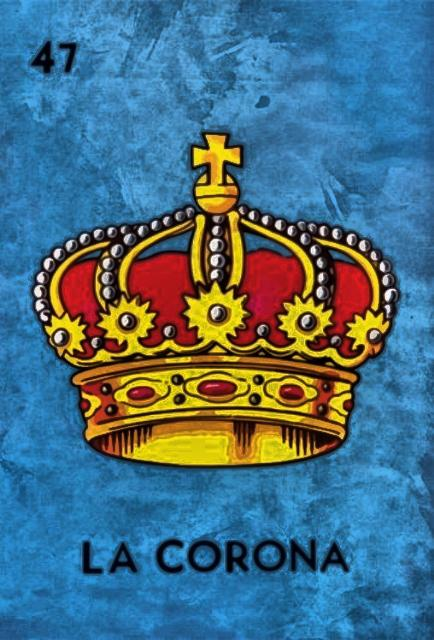La Corona: (3, 2, 434, 639)
